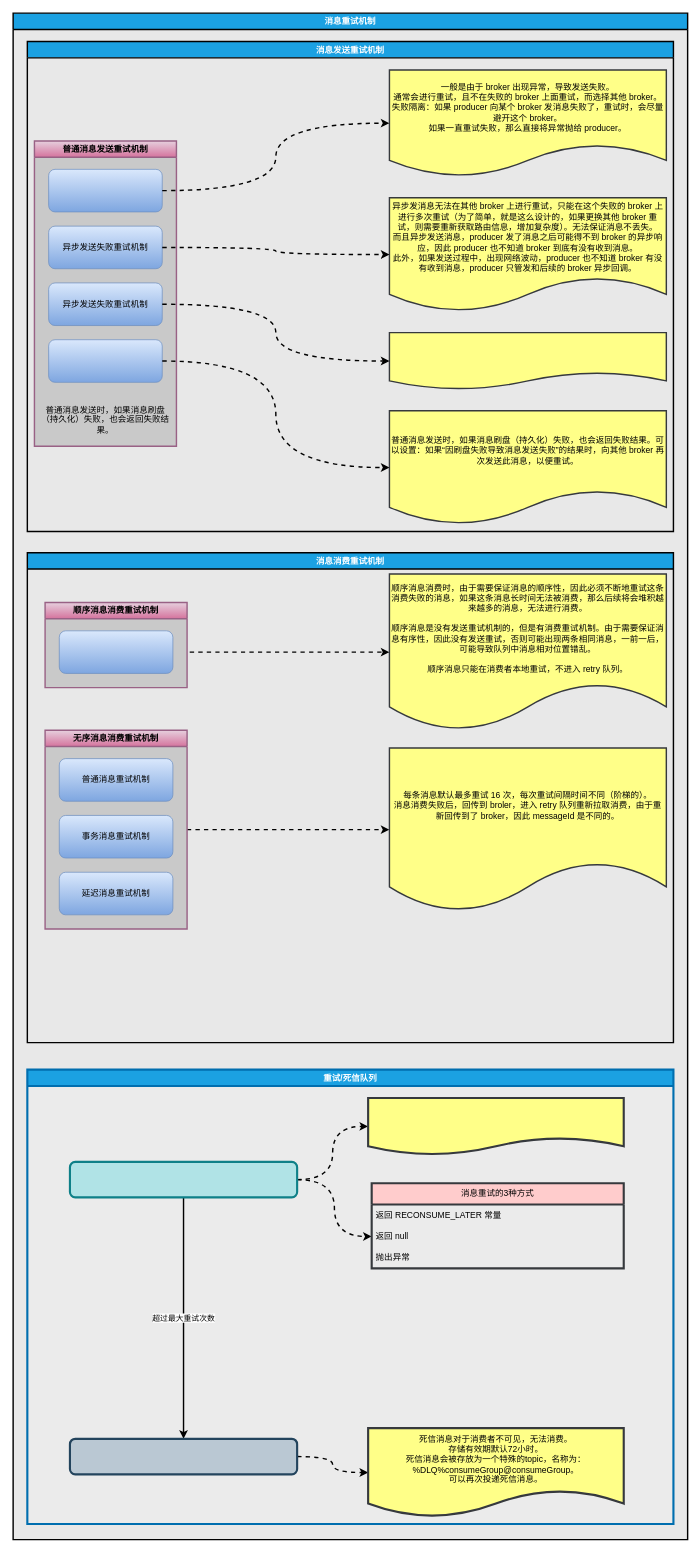
The diagram is 700 pixels wide and 1552 high, and some of its shapes have lost their labels. The centre of each missing label's shape, as x and y in pixels:
"单向发送消息，producer 只管发，发成功与否都不管，因此没有重试机制。" belongs at (x=527, y=361).
"同步发送失败重试机制" belongs at (x=105, y=190).
"死信队列" belongs at (x=183, y=1456).
"消息刷盘失败机制" belongs at (x=105, y=360).
"重试队列" belongs at (x=183, y=1179).
"重试队列复用了延时消息的能力，当需要重试时，会将消息丢到延时消息队列中。" belongs at (x=495, y=1126).
"顺序消息重试机制" belongs at (x=116, y=651).
